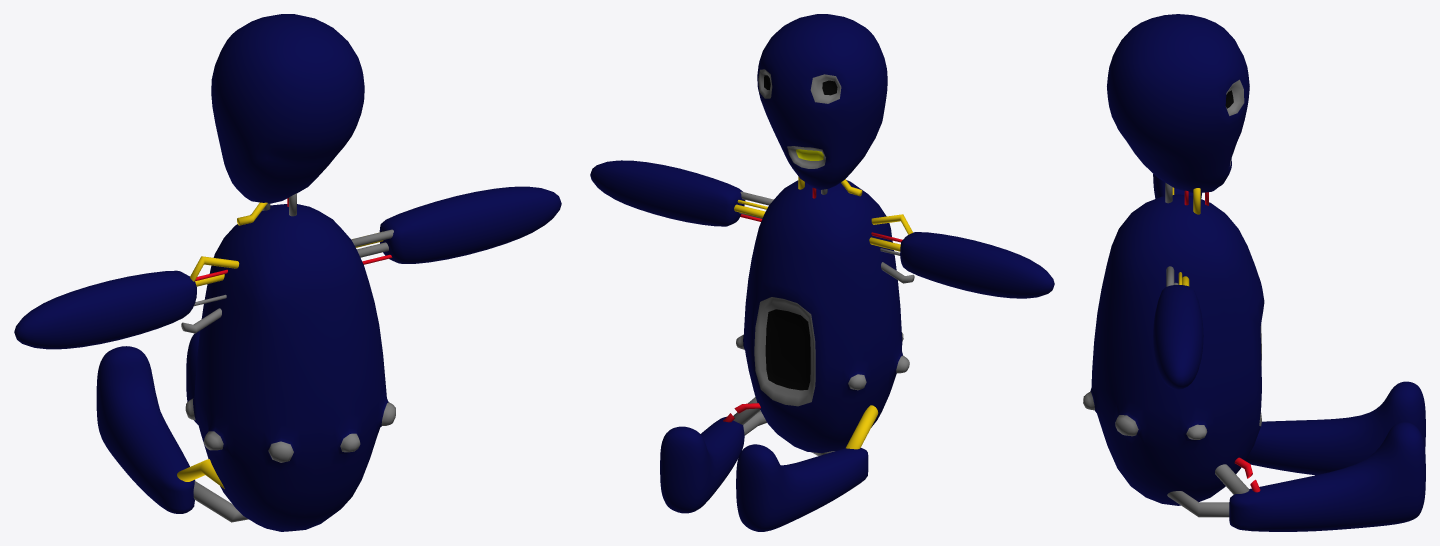
The model's file is Deco_RobotDesactivated.fbx.
3 renders of one model, left to right at view 1: azimuth 30°, elevation 25°; view 2: azimuth 150°, elevation 25°; view 3: azimuth 270°, elevation 25°, orthographic. The views are drawn at different scales.
Visible parts, largest first — view 1: Body, Head, Arms, Legs, Pipes; view 2: Body, Head, Legs, Arms, Pipes; view 3: Body, Legs, Head, Arms, Pipes.
Part boxes in pixels (x1,y1,x2,y2): Body: (185,204,395,531); Head: (211,14,364,203); Arms: (14,186,561,349); Legs: (96,331,199,513); Pipes: (177,193,393,522); Body: (736,180,909,453); Head: (757,14,887,189); Legs: (660,416,868,531); Arms: (590,160,1054,298); Pipes: (723,176,914,455); Body: (1083,194,1264,505); Legs: (1229,381,1425,531); Head: (1107,14,1249,192); Arms: (1153,174,1203,389); Pipes: (1165,182,1260,517).
Bounding box in the file's own units: 216 × 124 × 191.
